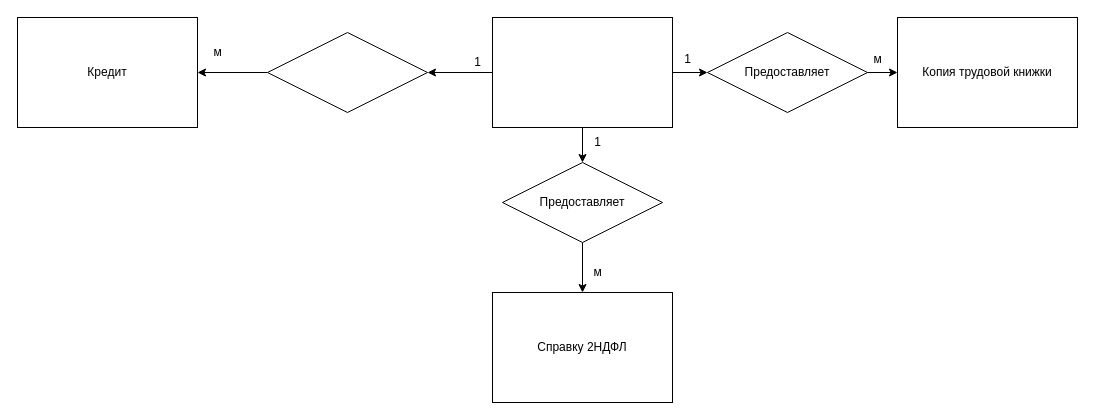
Image size: 1095x420. Some labels were removed from this diagram. Each missing label, with the centre of its shape:
"Запрашивает" goes at (x=347, y=72).
"Клиент" goes at (x=582, y=72).
